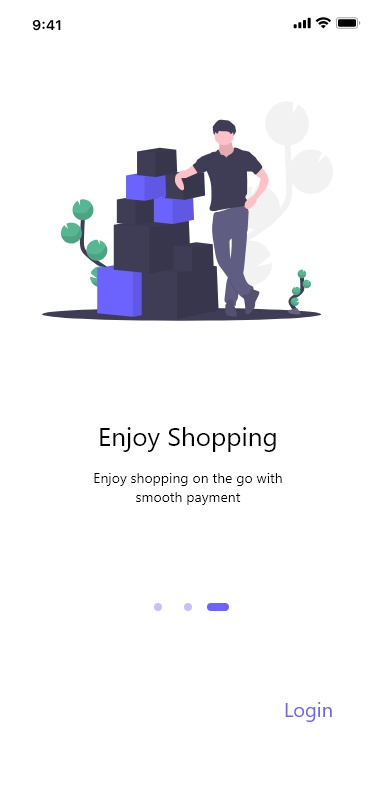Image: (42, 102, 333, 322)
PageIndicator: (154, 602, 230, 612)
Text: (95, 473, 283, 506), (100, 427, 277, 453), (285, 702, 333, 723)
UpperTaskBar: (33, 17, 361, 32)
